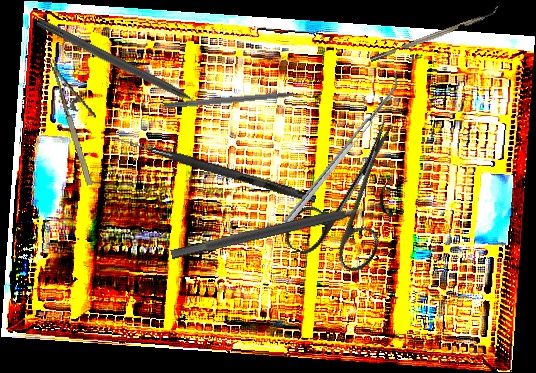Chopper: (367, 3, 501, 63)
Fixation Ring: (166, 182, 395, 273)
Hook Surgical: (34, 16, 213, 116), (108, 133, 318, 204), (163, 89, 313, 111)
Iris Scissors: (279, 101, 429, 282)
Needle Holder: (49, 51, 113, 187)
Spatula Surgical: (277, 71, 407, 226)
